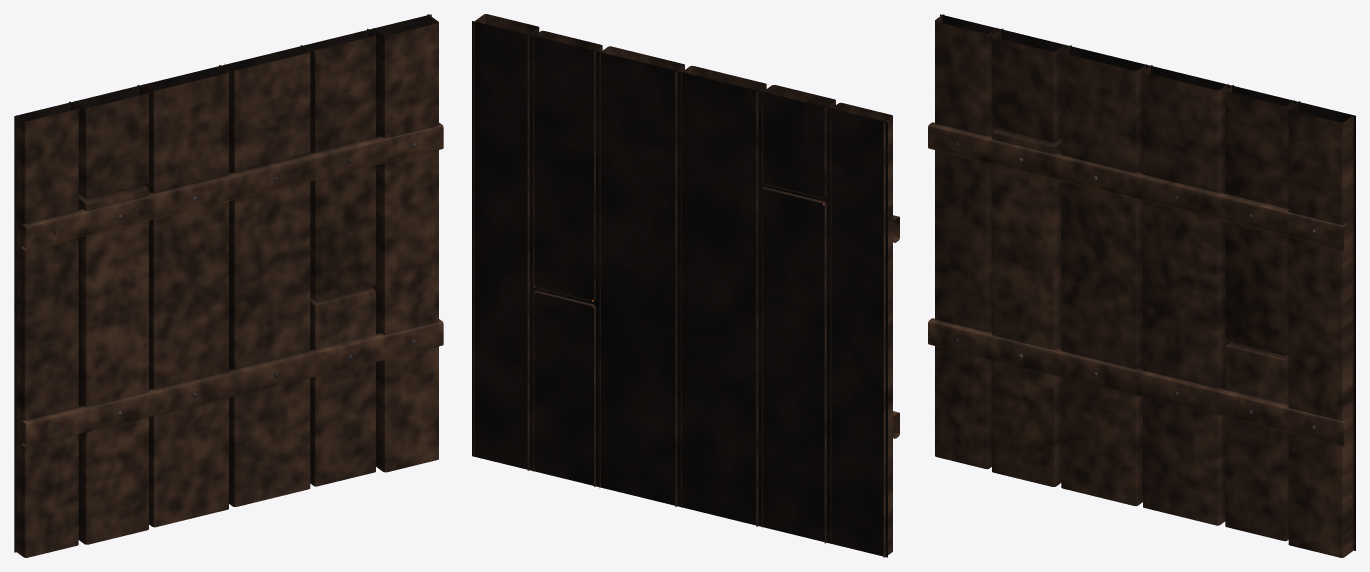
The model's file is StiltVillage_BackWall.fbx.
3 views of the same model, side by side, from view 1: azimuth 30°, elevation 25°; view 2: azimuth 150°, elevation 25°; view 3: azimuth 330°, elevation 25° (orthographic).
Visible parts, largest first — view 1: StiltVillage_BackWall; view 2: StiltVillage_BackWall; view 3: StiltVillage_BackWall.
Boxes of the visible parts, x1,y1,x2,y2 form: StiltVillage_BackWall: (14, 14, 443, 557); StiltVillage_BackWall: (472, 14, 899, 557); StiltVillage_BackWall: (928, 14, 1355, 557).
Size of the model in its own units: 4 by 4 by 0.2465.
